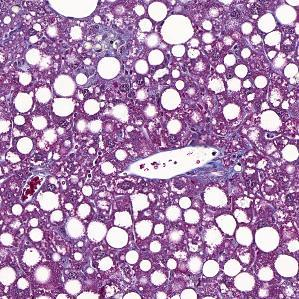fibrosis: (183, 161, 241, 188)
